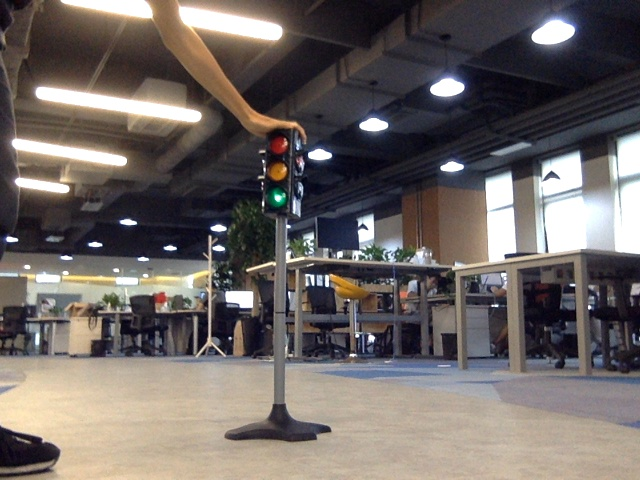green: (266, 136, 289, 208)
